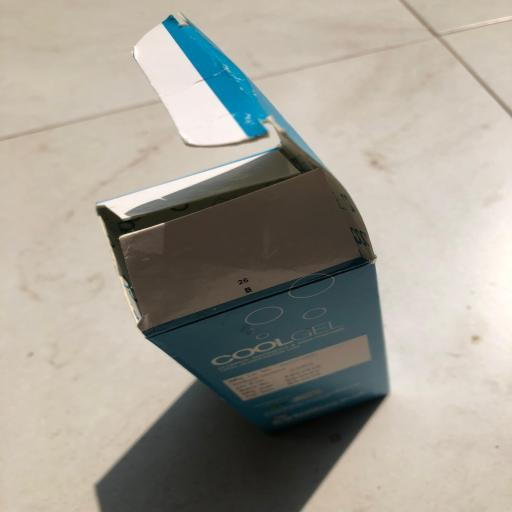waste: (95, 15, 432, 440)
